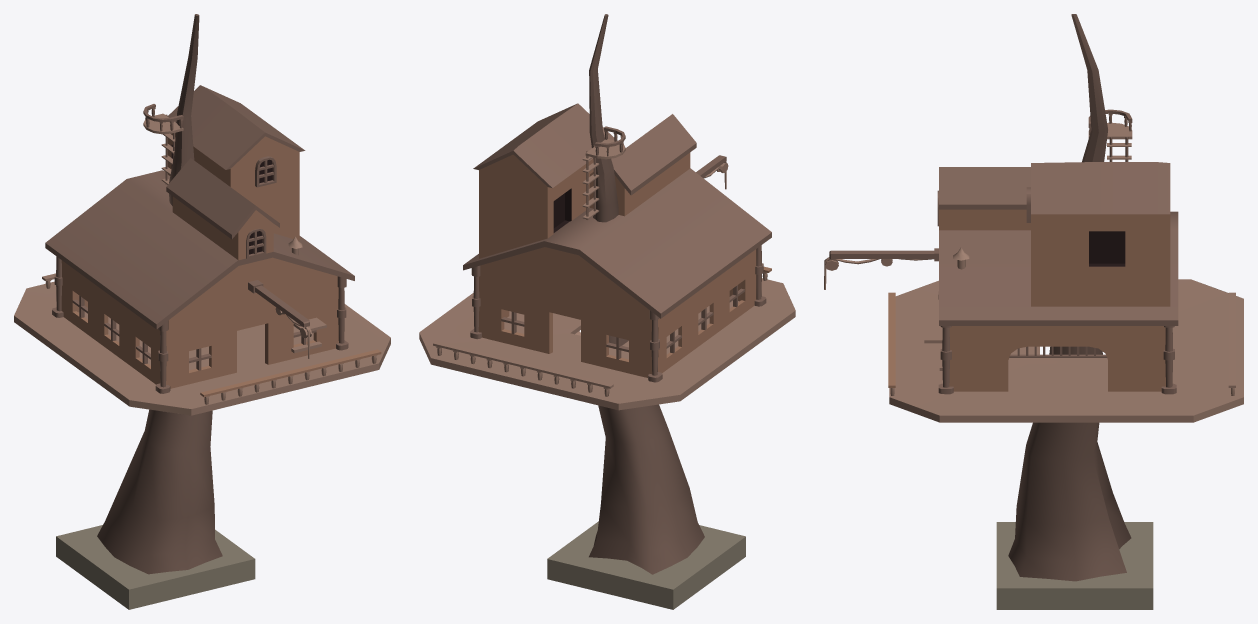
Rendered from TreeHouse.gltf.
3 views of the same model, side by side, from view 1: azimuth 30°, elevation 25°; view 2: azimuth 150°, elevation 25°; view 3: azimuth 270°, elevation 25° (orthographic). The views are drawn at different scales.
Visible parts, largest first — view 1: buffer-0-mesh-0 (×4), Box; view 2: buffer-0-mesh-0 (×5), Box; view 3: buffer-0-mesh-0 (×5), Box.
Part boxes in pixels (bbox=[...]): buffer-0-mesh-0 (×4): bbox=[14, 14, 390, 574]; Box: bbox=[56, 525, 255, 609]; buffer-0-mesh-0 (×5): bbox=[419, 14, 795, 574]; Box: bbox=[547, 521, 745, 609]; buffer-0-mesh-0 (×5): bbox=[824, 14, 1243, 581]; Box: bbox=[996, 522, 1153, 609].
Bounding box in the file's own units: 2.06 × 4.11 × 2.68.
